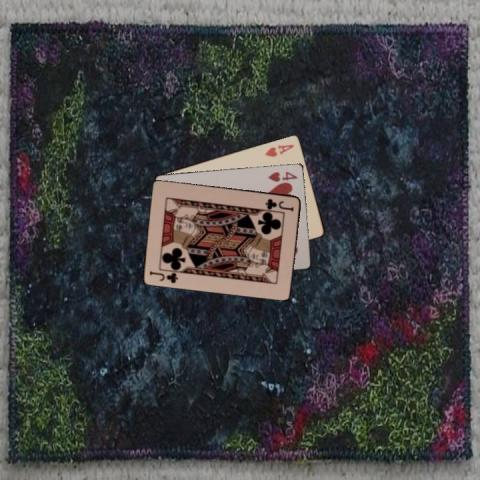4h: (265, 169, 299, 182)
Ah: (262, 141, 295, 158)
Jc: (263, 195, 295, 212), (147, 268, 179, 285)
